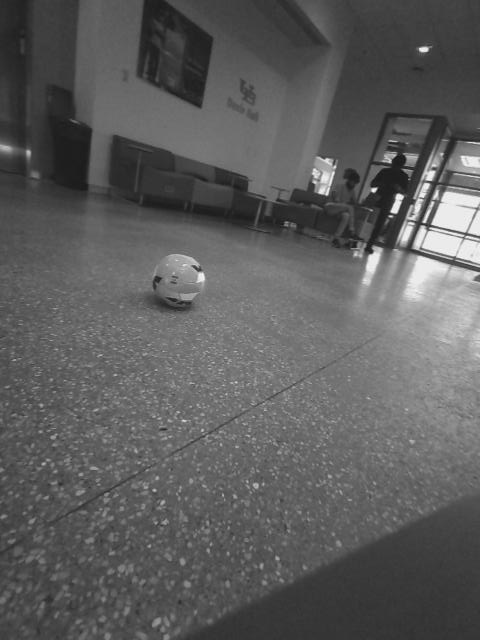ball: (229, 258, 282, 310)
